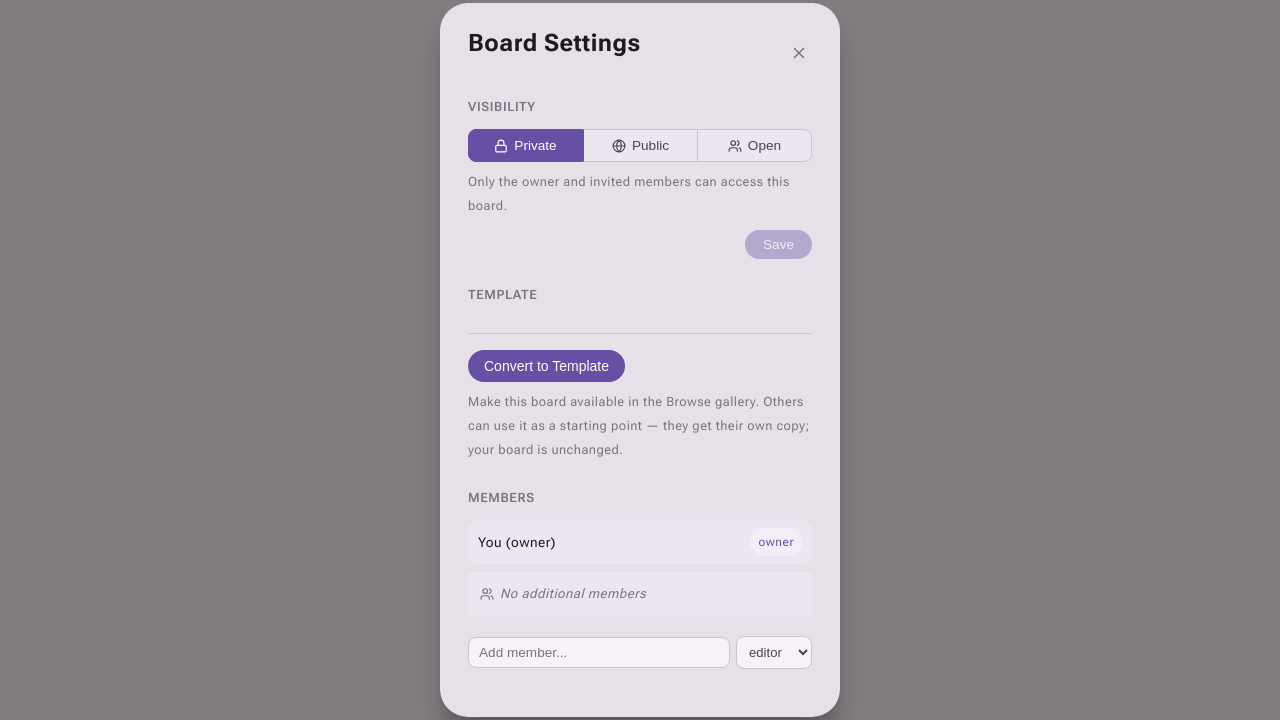
Test: BoardSettings — member search Firestore query › clears search results when input is cleared
This screenshot has width=1280, height=720.
In the field with placeholder "Add member...": [599, 652] box [468,637,730,668], type "some"
Wait 300 ms
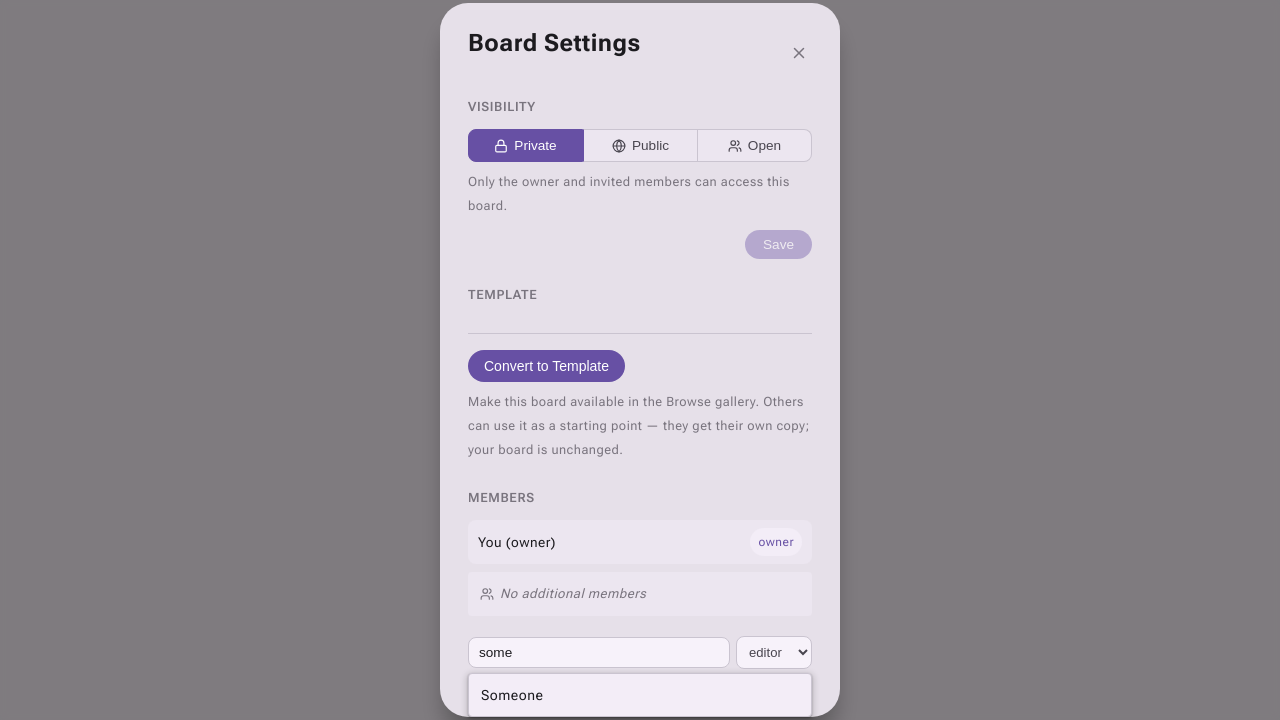
Now the text "Someone" is shown, box [481,683,544,707]
Clear the field with placeholder "Add member...": [599, 652] box [468,637,730,668]
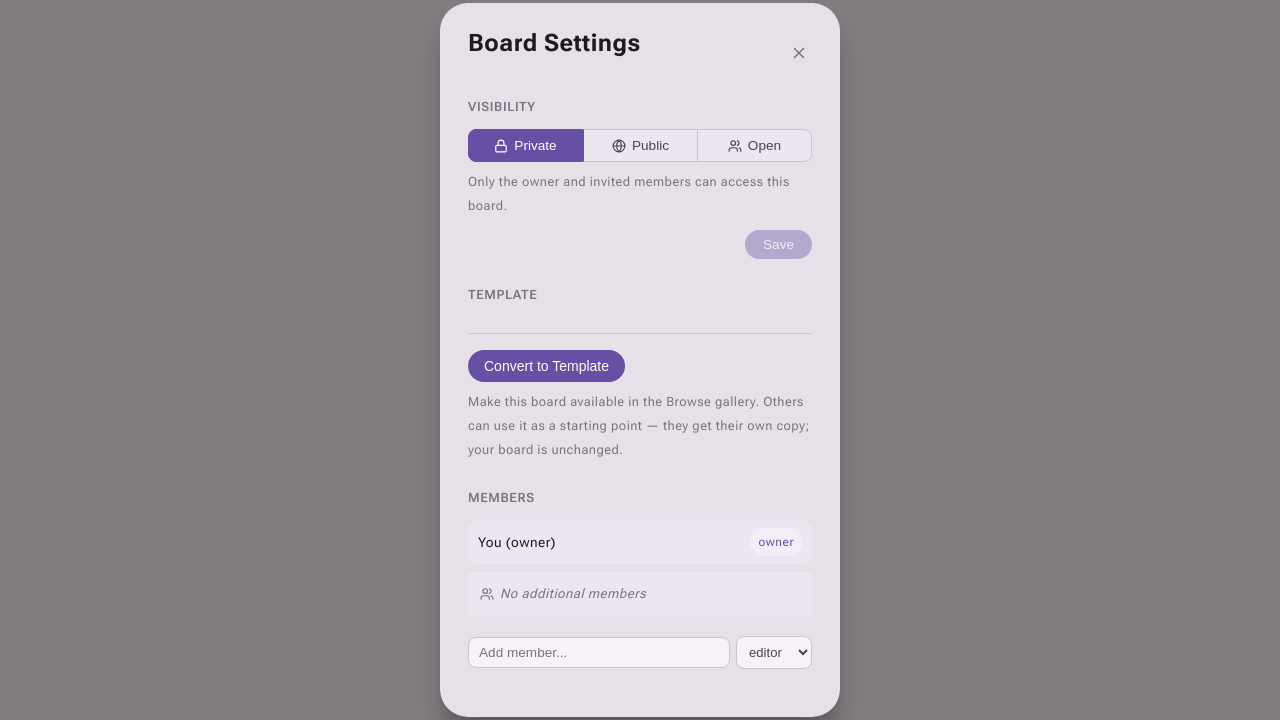
Now the text "Someone" is gone
